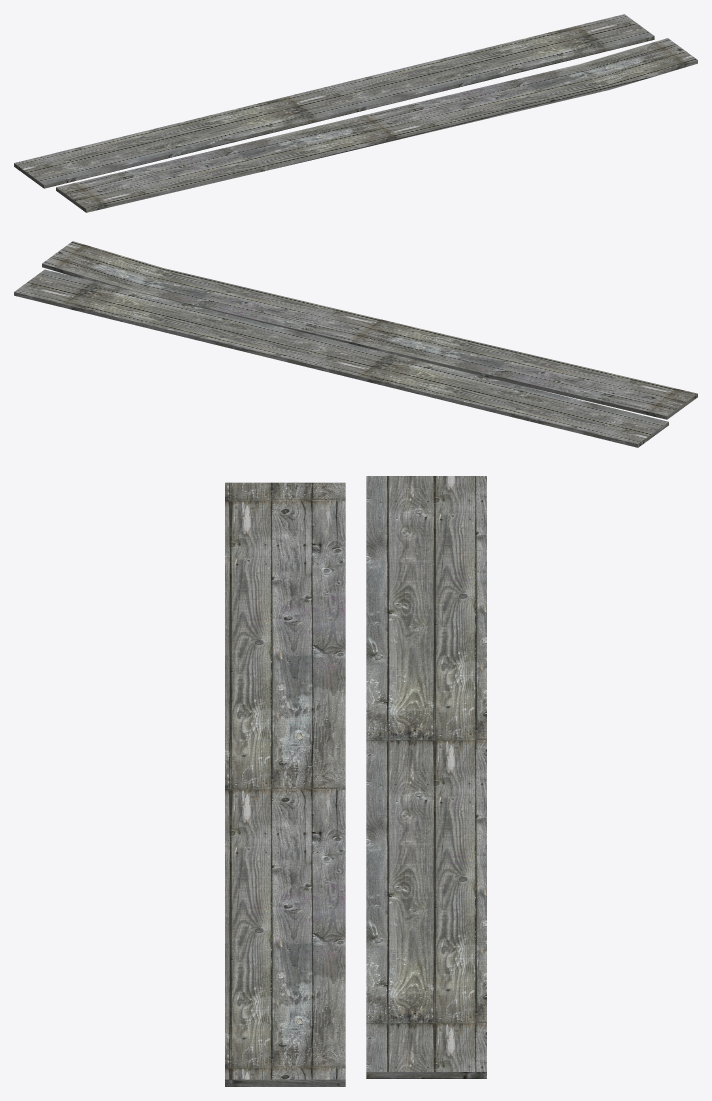
The model's file is PLANKBridge001.dae.
3 renders of one model, top to bottom at view 1: azimuth 30°, elevation 25°; view 2: azimuth 150°, elevation 25°; view 3: azimuth 270°, elevation 25°, orthographic. The views are drawn at different scales.
Parts seen in each view (by area): view 1: PLANKBridge001; view 2: PLANKBridge001; view 3: PLANKBridge001.
Part boxes in pixels (x1,y1,x2,y2): PLANKBridge001: (14,14,697,212); PLANKBridge001: (14,241,697,447); PLANKBridge001: (225,476,486,1086).
Bounding box in the file's own units: 17.06 × 3.13 × 0.2187.
1 material, 1 textured.
